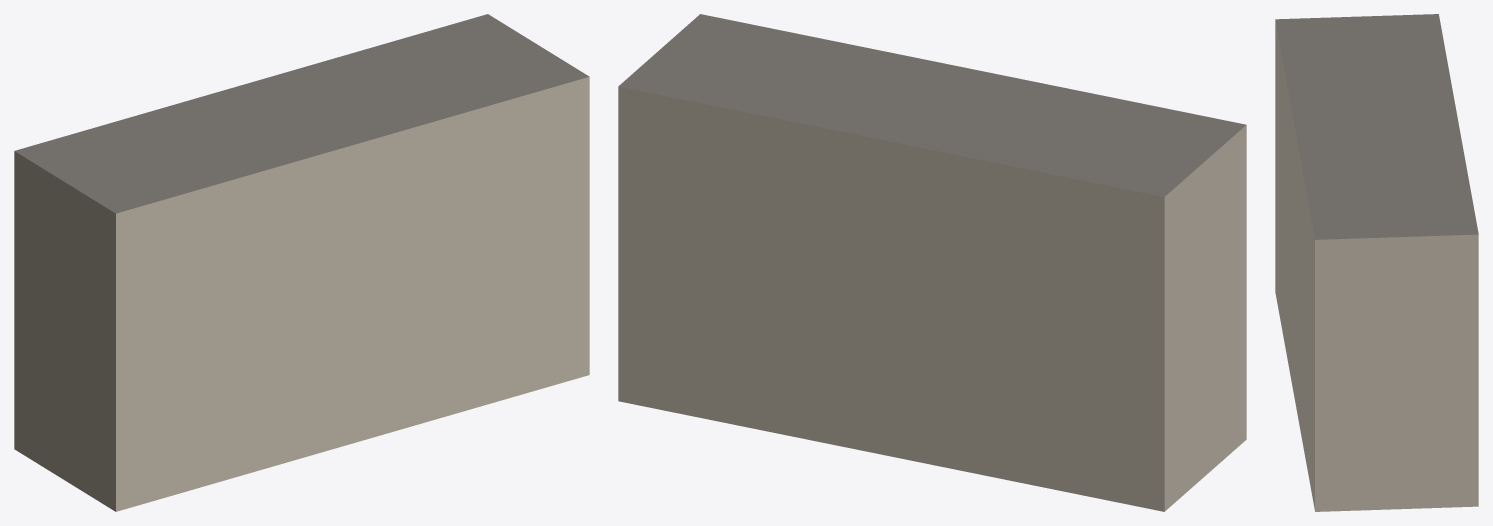
The picture shows the model from 3 angles, left to right: view 1: azimuth 30°, elevation 25°; view 2: azimuth 150°, elevation 25°; view 3: azimuth 270°, elevation 25°; orthographic projection. The views are drawn at different scales.
Parts seen in each view (by area): view 1: HP-w858824309; view 2: HP-w858824309; view 3: HP-w858824309.
Boxes of the visible parts, box(x1,y1,x2,y2) form: HP-w858824309: box(14, 14, 589, 511); HP-w858824309: box(618, 14, 1246, 511); HP-w858824309: box(1275, 14, 1478, 511).
Bounding box in the file's own units: 32.05 × 18 × 12.21.
